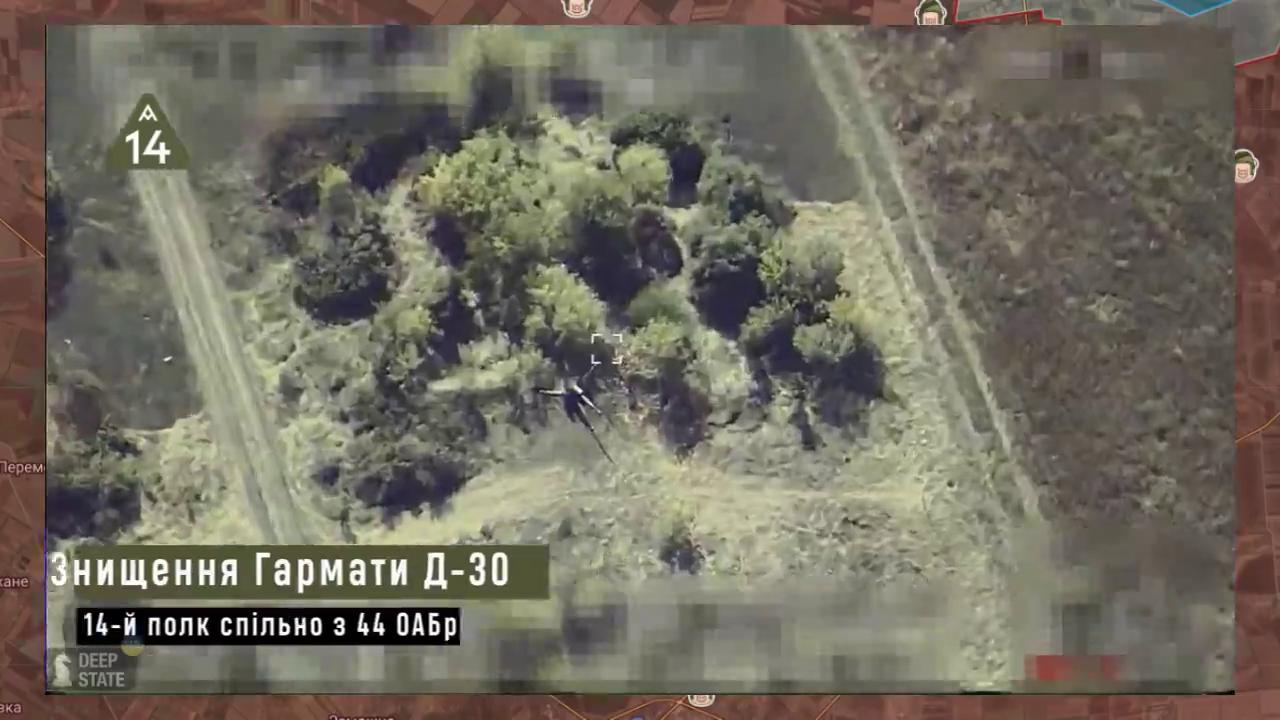tank: (536, 349, 606, 422)
